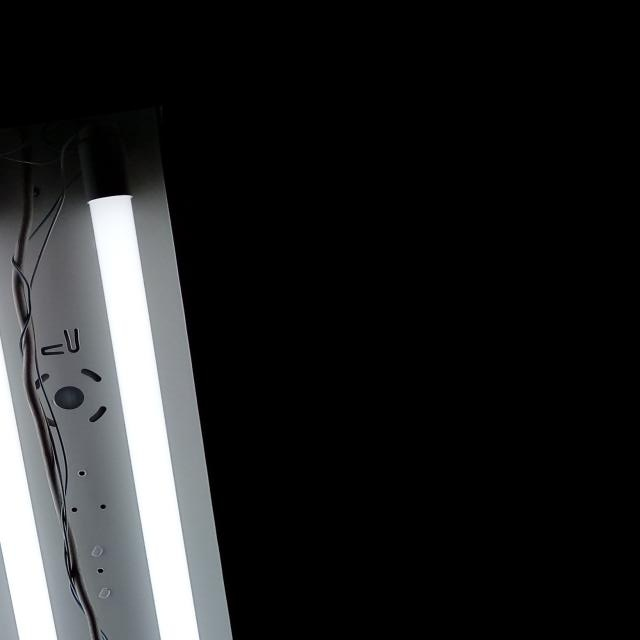fluorescent tube: (0, 144, 357, 640)
